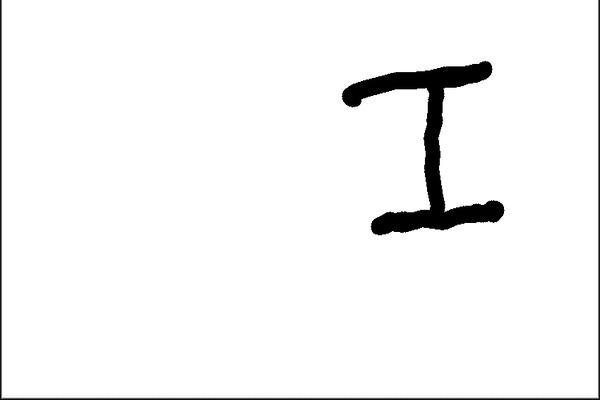i: (324, 62, 525, 236)
